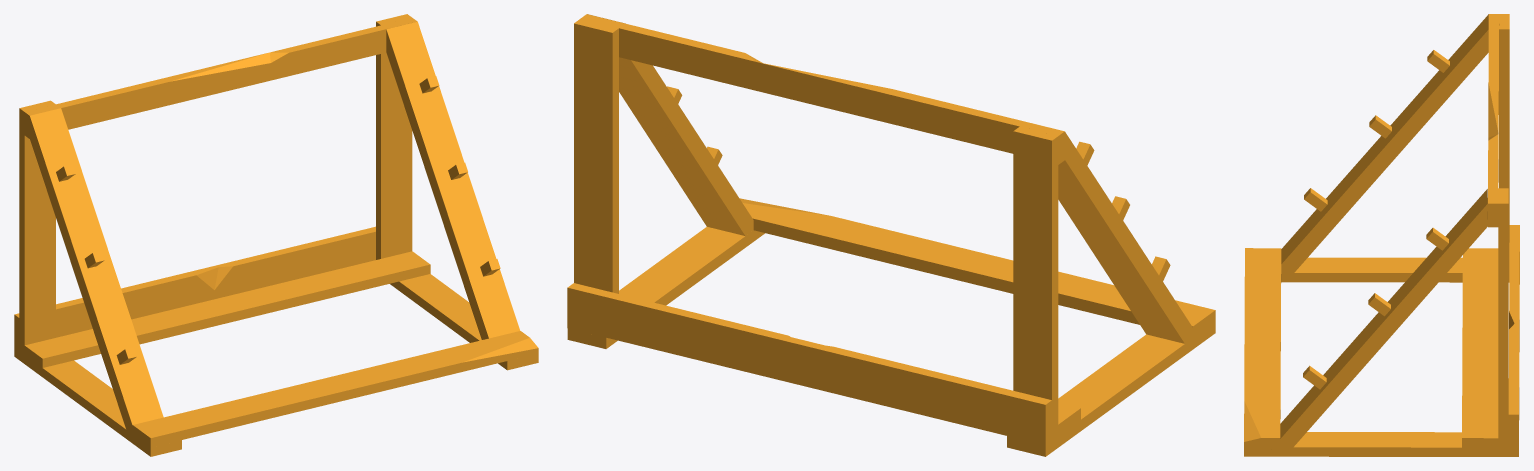
Rendered from SM_Rack_Weapon_Small.fbx.
3 views of the same model, side by side, from view 1: azimuth 30°, elevation 25°; view 2: azimuth 150°, elevation 25°; view 3: azimuth 270°, elevation 25° (orthographic). The views are drawn at different scales.
Parts seen in each view (by area): view 1: rack-weapon-small; view 2: rack-weapon-small; view 3: rack-weapon-small.
Boxes of the visible parts, x1,y1,x2,y2 form: rack-weapon-small: (14,14,538,456); rack-weapon-small: (567,14,1215,456); rack-weapon-small: (1244,14,1519,456).
Bounding box in the file's own units: 0.8667 × 0.5384 × 0.5318.
